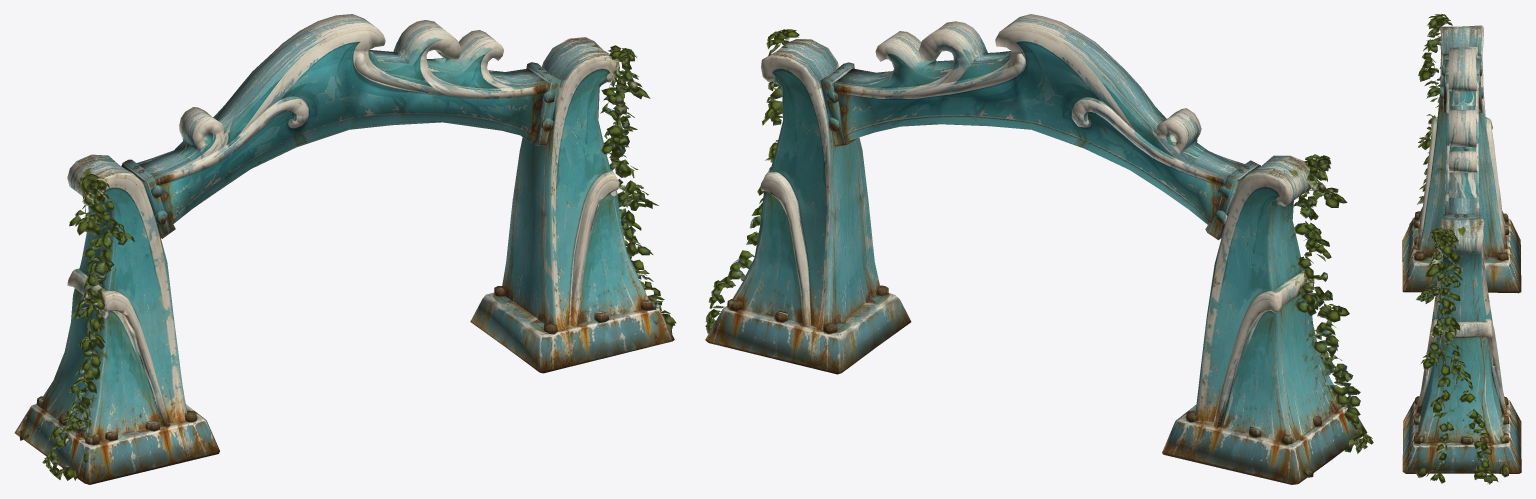
Rendered from entrance-arch.glb.
The picture shows the model from 3 angles, left to right: view 1: azimuth 30°, elevation 25°; view 2: azimuth 150°, elevation 25°; view 3: azimuth 270°, elevation 25°; orthographic projection. The views are drawn at different scales.
Visible parts, largest first — view 1: entrance-arch; view 2: entrance-arch; view 3: entrance-arch.
Part boxes in pixels (x1,y1,x2,y2): entrance-arch: (14,14,676,484); entrance-arch: (705,14,1373,484); entrance-arch: (1402,14,1521,484).
Size of the model in its own units: 15 by 8.54 by 3.04.
1 material, 1 textured.
